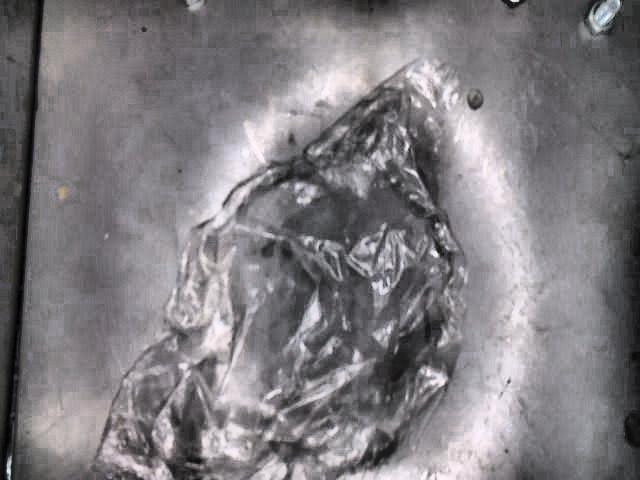Plastic: (87, 62, 470, 480)
